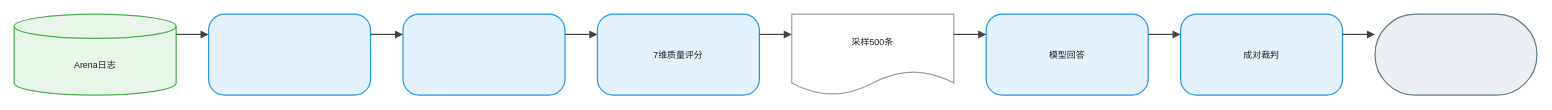
This 1552x110 diagram has some shape labels left out. The shapes that lost their labels are listed below. From the top down, each one's centre as x and y in pixels, then its label:
At point 289,54: "清洗提示".
At point 483,54: "主题聚类".
At point 1455,54: "BT胜率".
